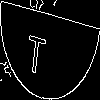T: (25, 25, 47, 76)
